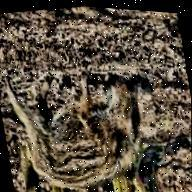boar: (1, 53, 154, 192)
